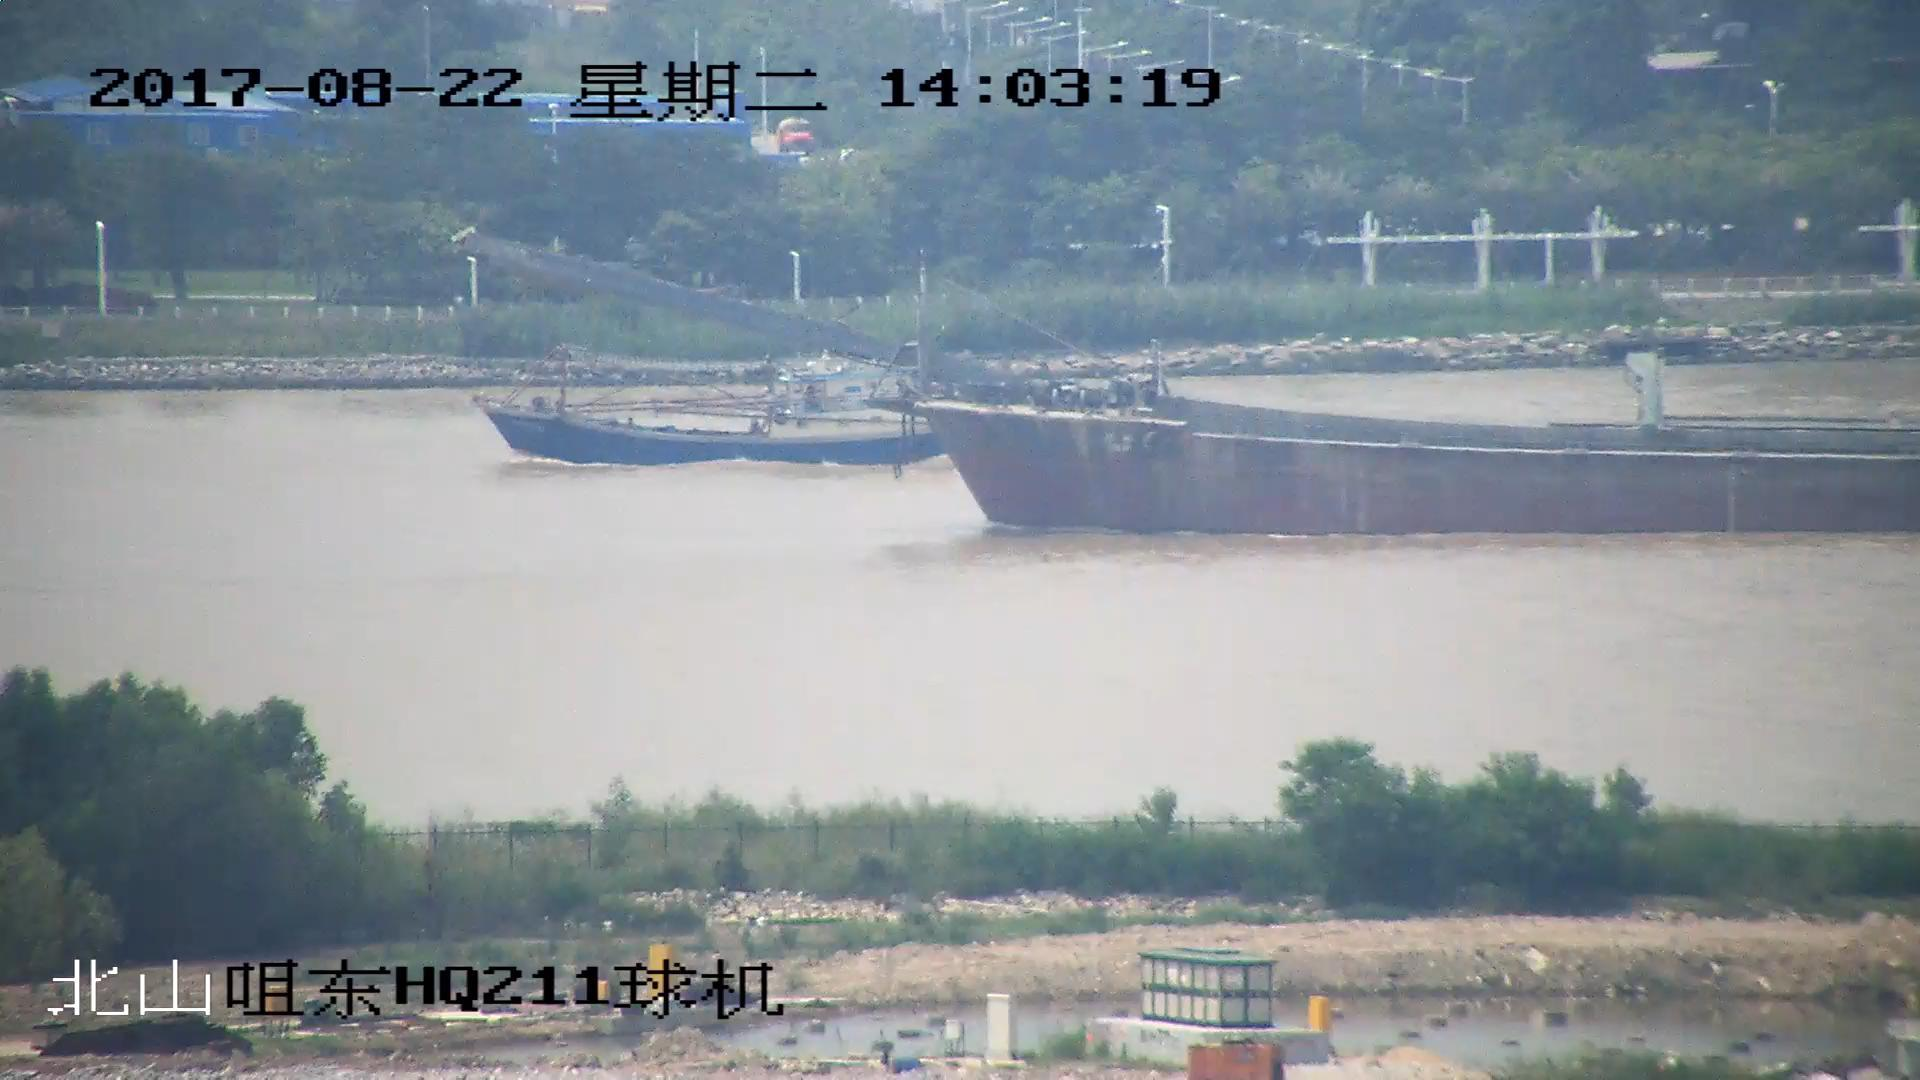Ship: (464, 233, 1920, 542), (481, 347, 949, 464)
